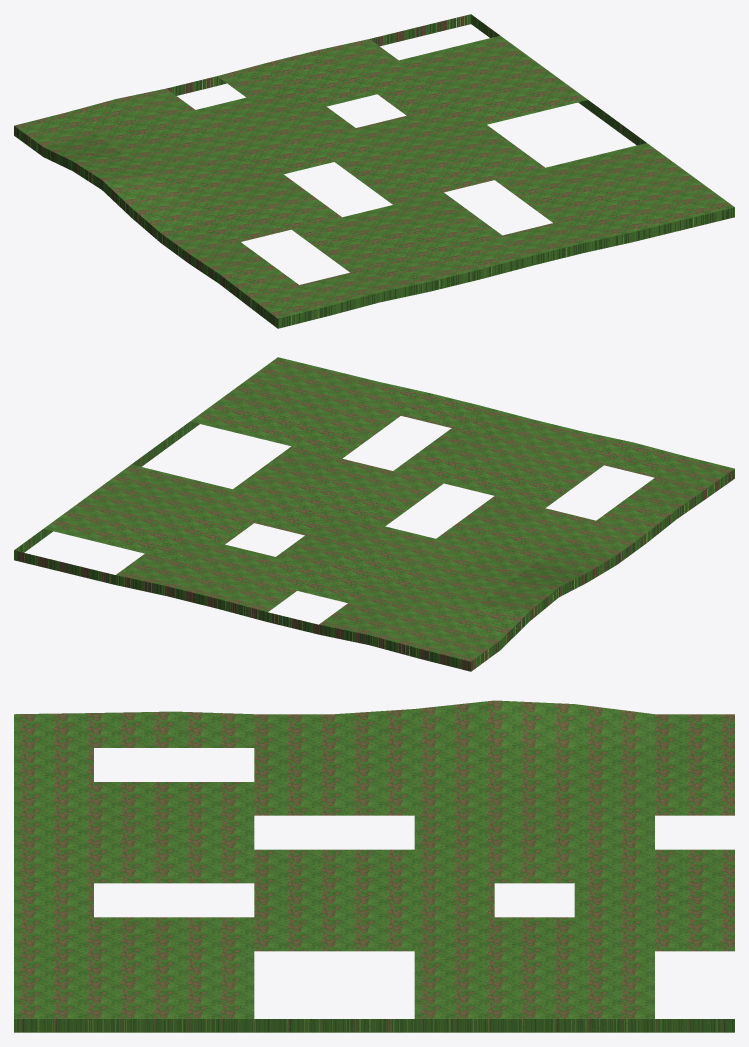
File: rv_terrain_13_lod2.gltf
The picture shows the model from 3 angles, top to bottom: view 1: azimuth 30°, elevation 25°; view 2: azimuth 150°, elevation 25°; view 3: azimuth 270°, elevation 25°; orthographic projection. The views are drawn at different scales.
Visible parts, largest first — view 1: RV_Terrain_13_lod2; view 2: RV_Terrain_13_lod2; view 3: RV_Terrain_13_lod2.
Part boxes in pixels (x1,y1,x2,y2): RV_Terrain_13_lod2: (14,14,734,328); RV_Terrain_13_lod2: (14,357,734,671); RV_Terrain_13_lod2: (14,700,734,1032).
Bounding box in the file's own units: 72 × 3.01 × 72.
2 materials, 1 textured.
